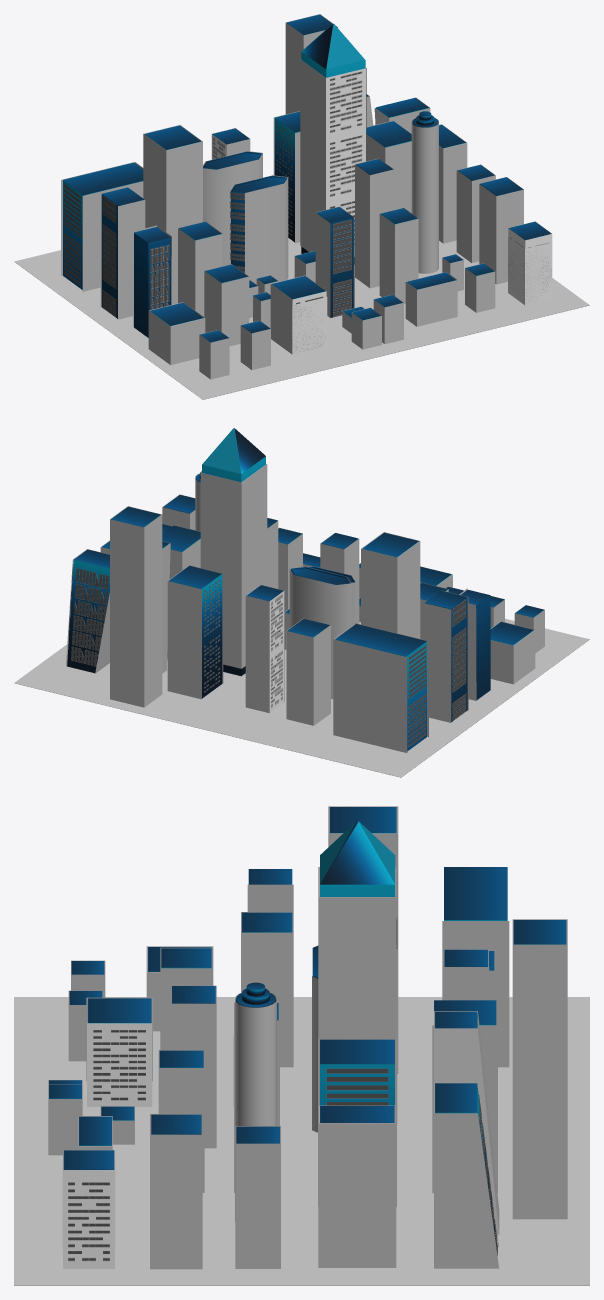
Rendered from Mobile_Level2.FBX.
3 renders of one model, top to bottom at view 1: azimuth 30°, elevation 25°; view 2: azimuth 150°, elevation 25°; view 3: azimuth 270°, elevation 25°, orthographic. The views are drawn at different scales.
Visible parts, largest first — view 1: NetworkLandscape2, MobileLevel2, MobileLevel2_WINDOWS; view 2: NetworkLandscape2, MobileLevel2, MobileLevel2_WINDOWS; view 3: NetworkLandscape2, MobileLevel2, MobileLevel2_WINDOWS.
Boxes of the visible parts, <box> form: NetworkLandscape2: <box>14,14,589,399</box>; MobileLevel2: <box>16,14,589,399</box>; MobileLevel2_WINDOWS: <box>64,14,552,342</box>; NetworkLandscape2: <box>14,464,589,777</box>; MobileLevel2: <box>15,428,589,777</box>; MobileLevel2_WINDOWS: <box>68,464,540,746</box>; NetworkLandscape2: <box>14,806,589,1285</box>; MobileLevel2: <box>14,807,589,1285</box>; MobileLevel2_WINDOWS: <box>48,806,566,1268</box>.
Size of the model in its own units: 17152 by 10094 by 14492.
